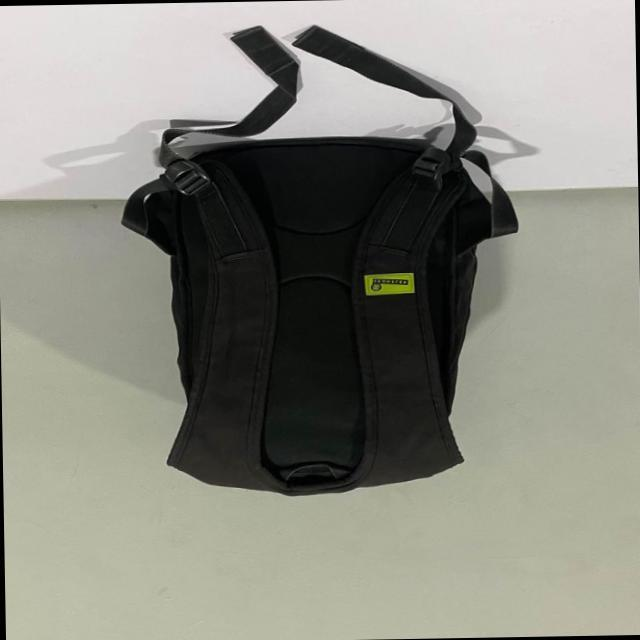bag: (130, 120, 485, 498)
